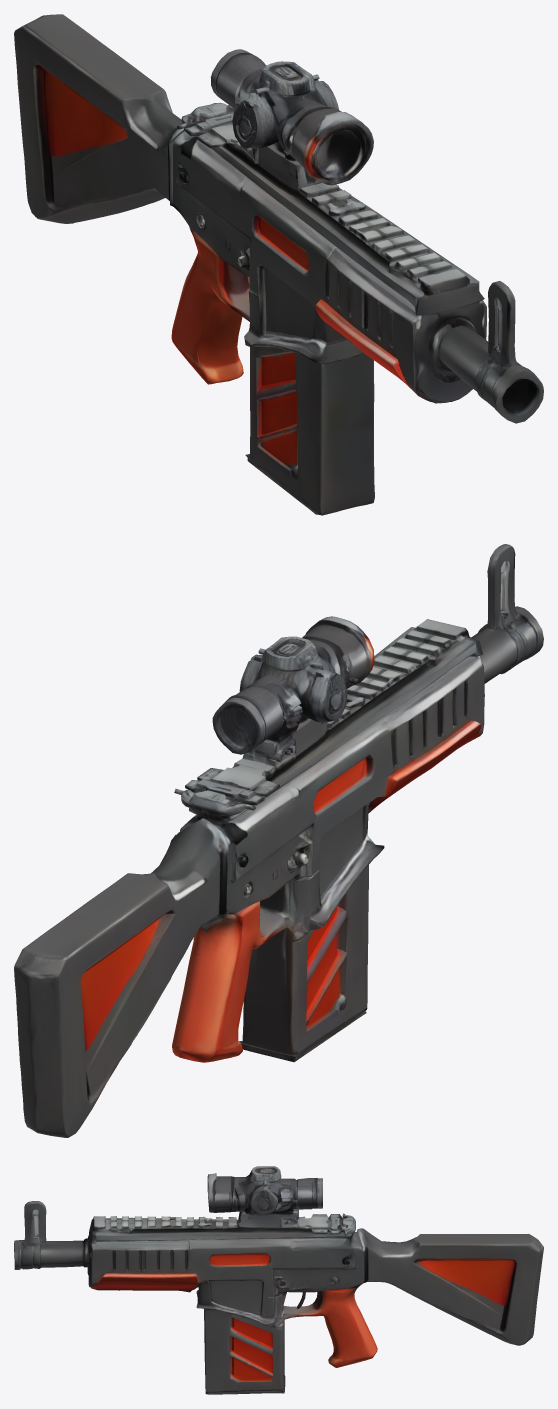
File: rifle_b.glb
3 views of the same model, one above another, from view 1: azimuth 30°, elevation 25°; view 2: azimuth 150°, elevation 25°; view 3: azimuth 270°, elevation 25° (orthographic). The views are drawn at different scales.
Visible parts, largest first — view 1: model; view 2: model; view 3: model.
Part boxes in pixels (x1=…): model: x1=14, y1=14, x2=543, y2=515; model: x1=14, y1=544, x2=543, y2=1137; model: x1=14, y1=1166, x2=543, y2=1394.
Size of the model in its own units: 0.2115 by 0.8524 by 1.9.
Materials: 1 (1 with a texture image).
